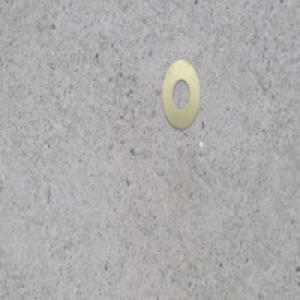Washer: (161, 59, 201, 132)
